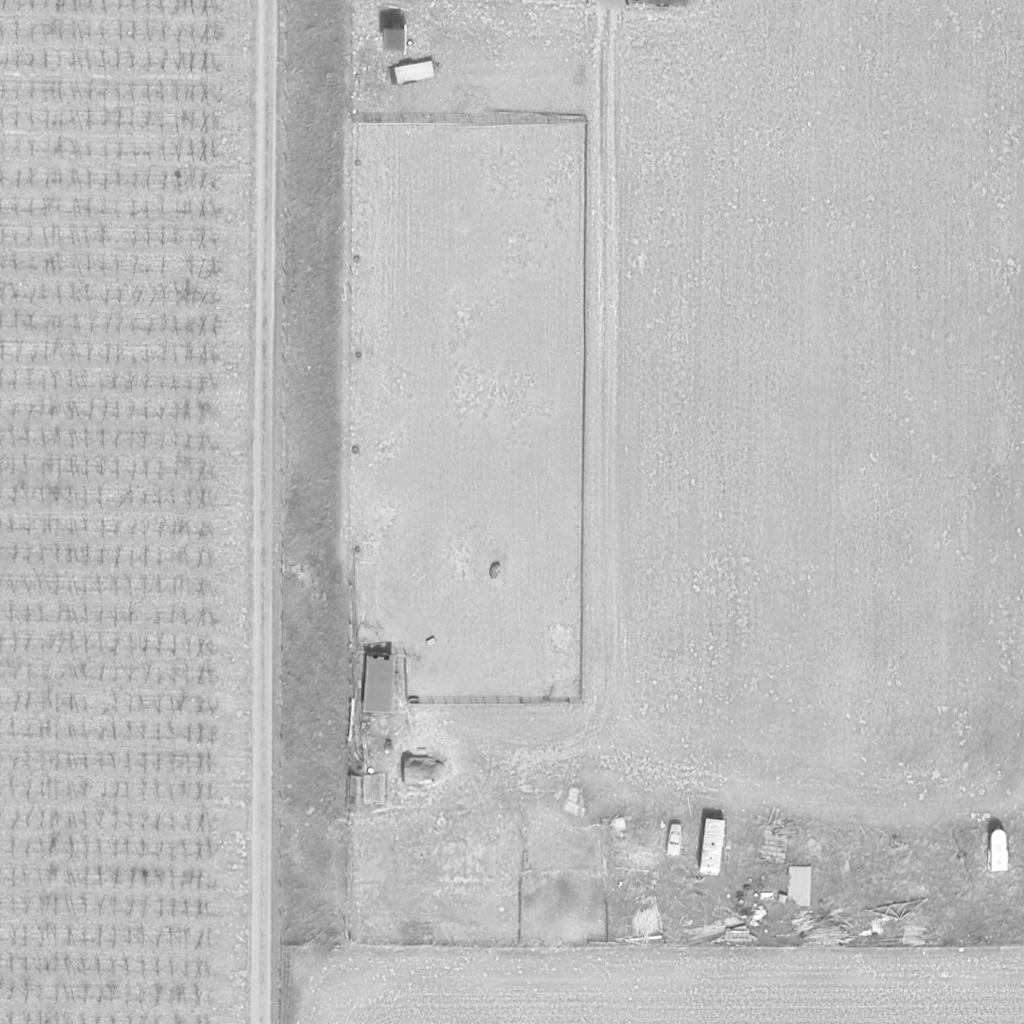vehicle: (699, 817, 727, 877), (987, 829, 1011, 873), (665, 823, 687, 857)
